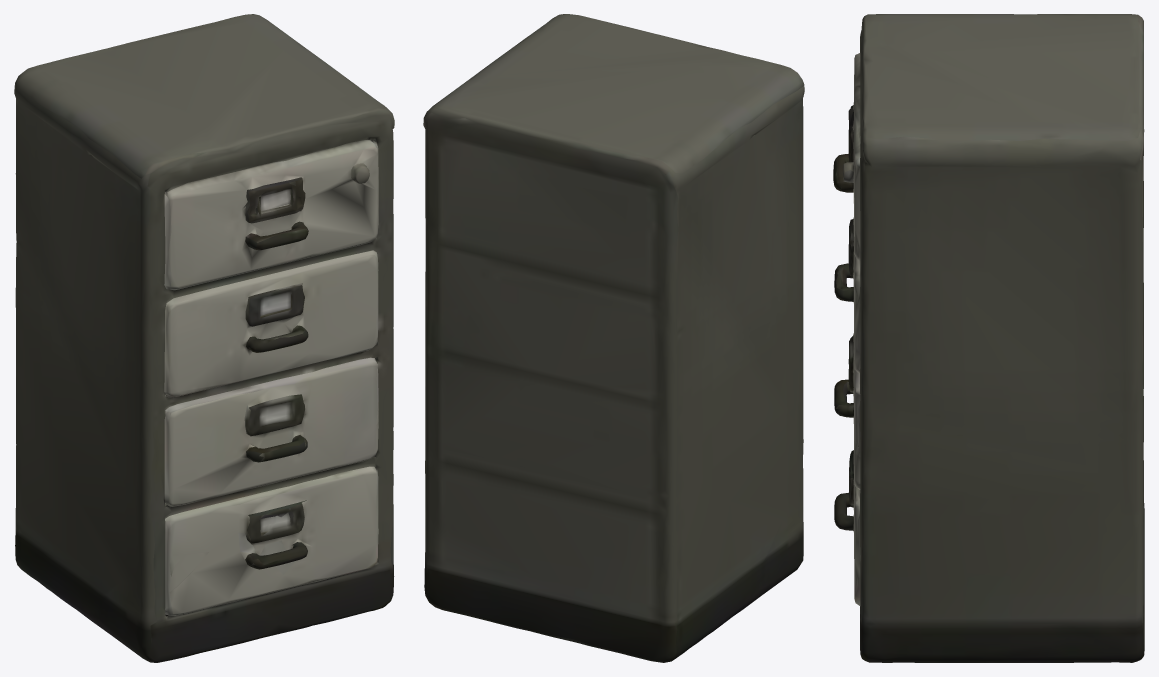
Rendered from filing_cabinet.glb.
3 views of the same model, side by side, from view 1: azimuth 30°, elevation 25°; view 2: azimuth 150°, elevation 25°; view 3: azimuth 270°, elevation 25° (orthographic). The views are drawn at different scales.
Visible parts, largest first — view 1: geometry_0; view 2: geometry_0; view 3: geometry_0.
Part boxes in pixels (<box>): geometry_0: <box>14,14,394,662</box>; geometry_0: <box>423,14,804,662</box>; geometry_0: <box>833,14,1144,662</box>.
Bounding box in the file's own units: 0.5326 × 1 × 0.5315.
Materials: 1 (1 with a texture image).
